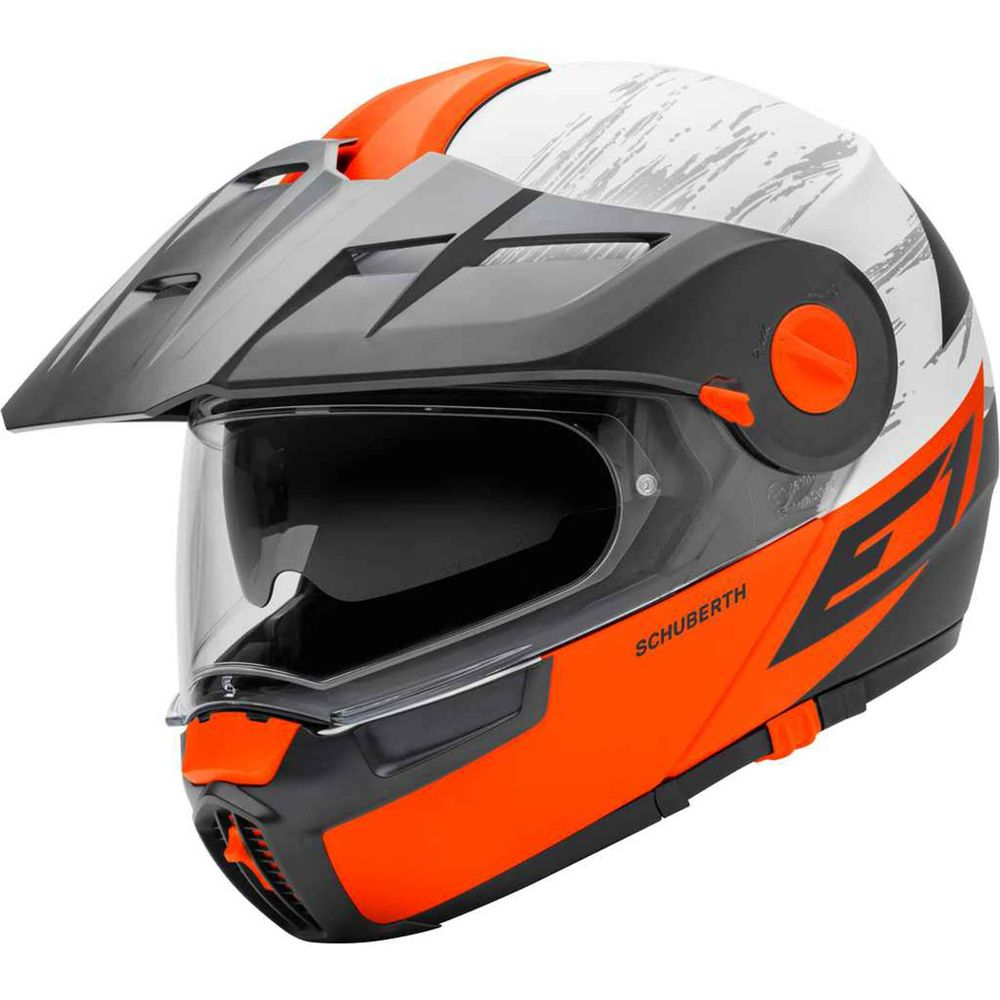with_helmet: (3, 35, 1000, 953)
